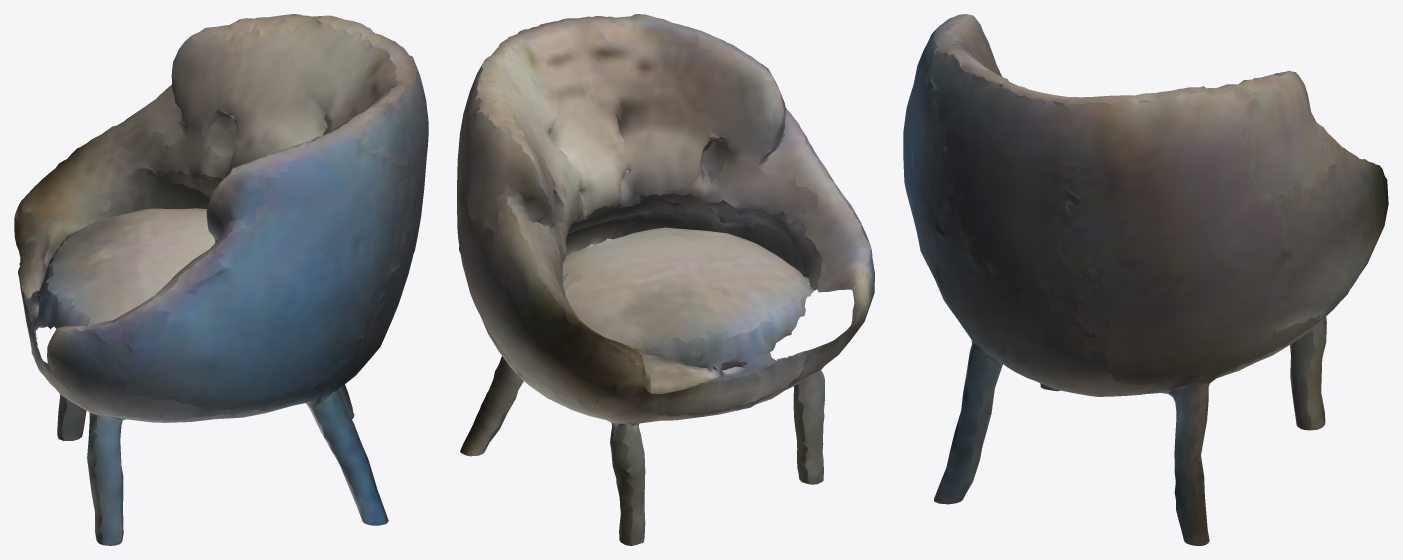
The picture shows the model from 3 angles, left to right: view 1: azimuth 30°, elevation 25°; view 2: azimuth 150°, elevation 25°; view 3: azimuth 270°, elevation 25°; orthographic projection. The views are drawn at different scales.
Parts seen in each view (by area): view 1: world; view 2: world; view 3: world.
Boxes of the visible parts, bbox=[...] form: world: bbox=[14, 14, 428, 545]; world: bbox=[457, 14, 874, 545]; world: bbox=[903, 14, 1388, 545].
Bounding box in the file's own units: 0.3142 × 0.3205 × 0.3135.
Materials: 1 (1 with a texture image).
